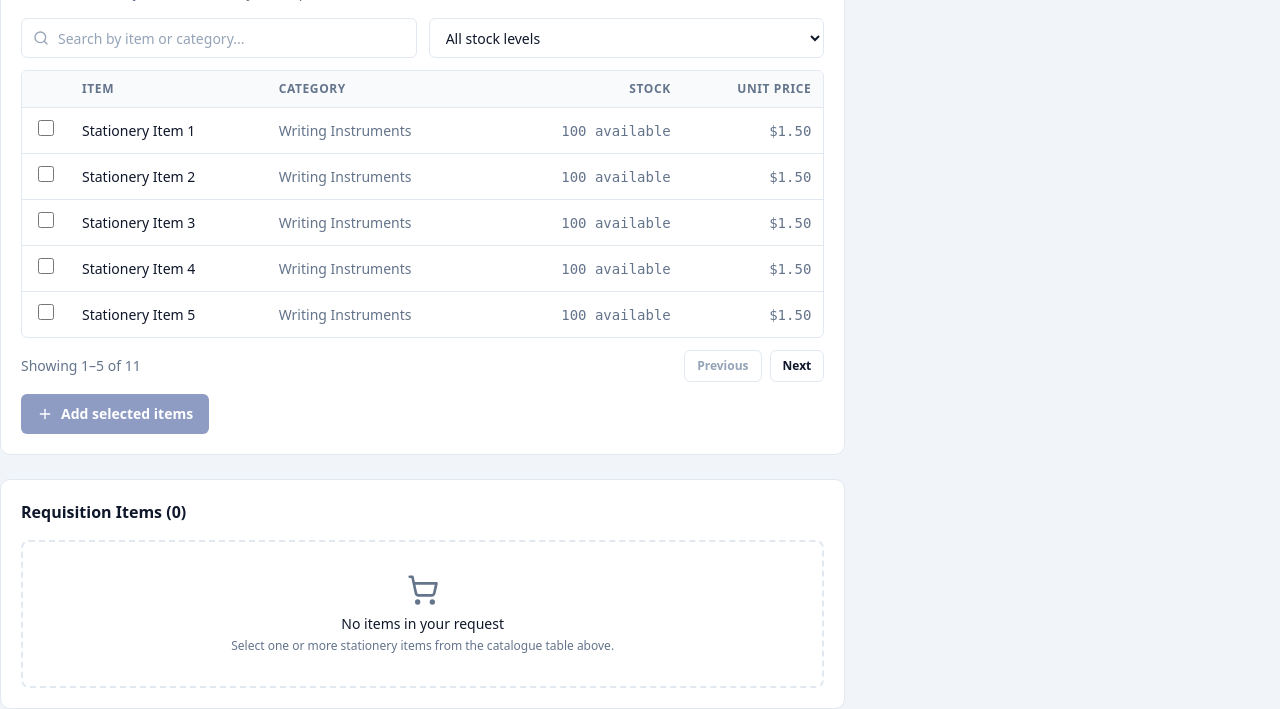
Test: NewRequestPage › paginates the catalogue picker table
This screenshot has width=1280, height=709.
(page scrolled)
Expected: the text "Stationery Item 1" is shown, [70, 108, 267, 154]
Expected: the text "Stationery Item 5" is shown, [70, 292, 267, 337]
Click the button "Next": point(797, 366) [770, 350, 824, 382]
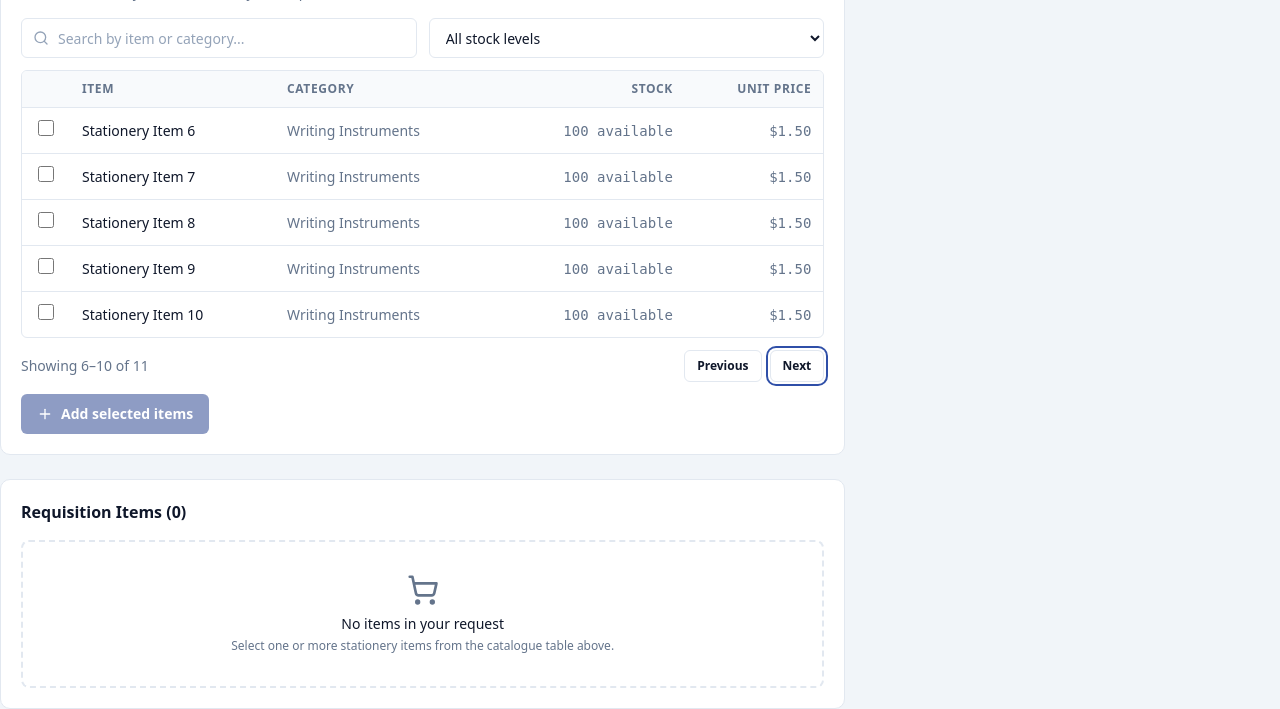
Expected: the text "Stationery Item 6" is shown, [70, 108, 275, 154]
